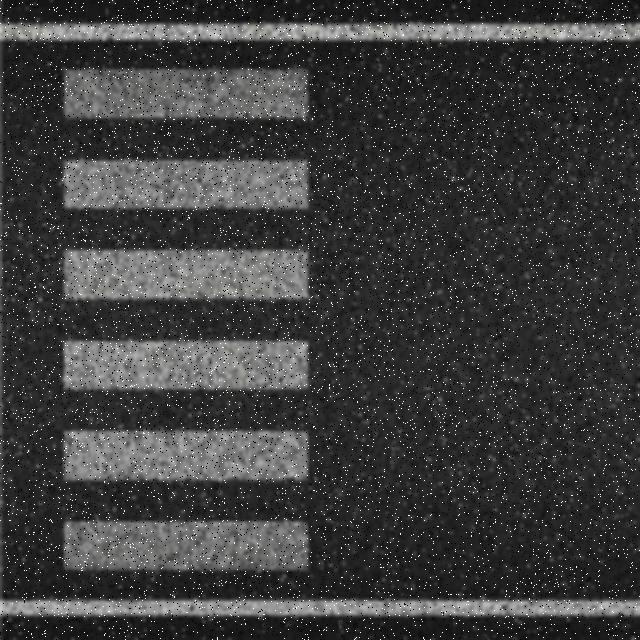Pedestrian crosswalk: (44, 42, 323, 600)
